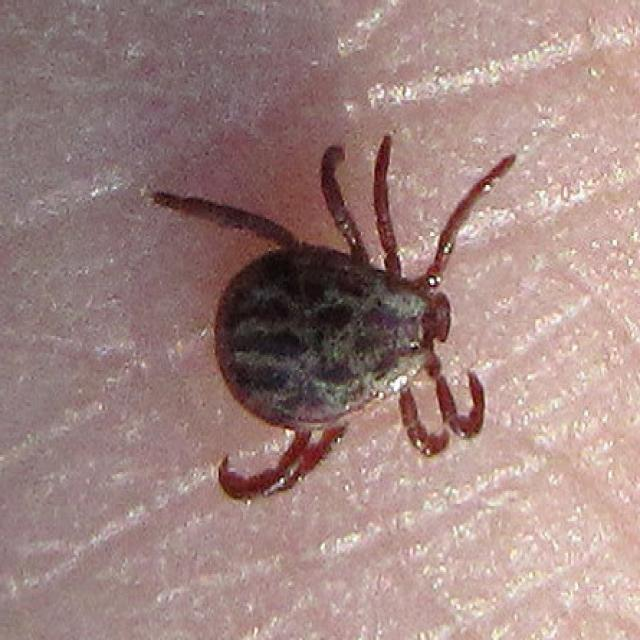Dermacentor Reticulatus-M: (151, 134, 513, 500)
